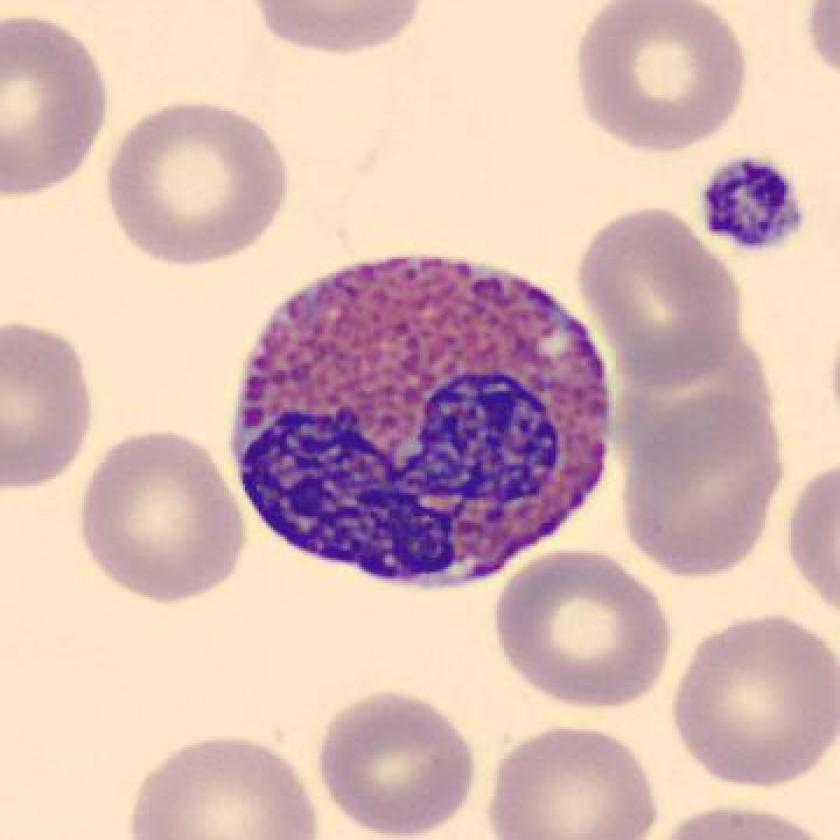eosinophil: (218, 244, 626, 607)
